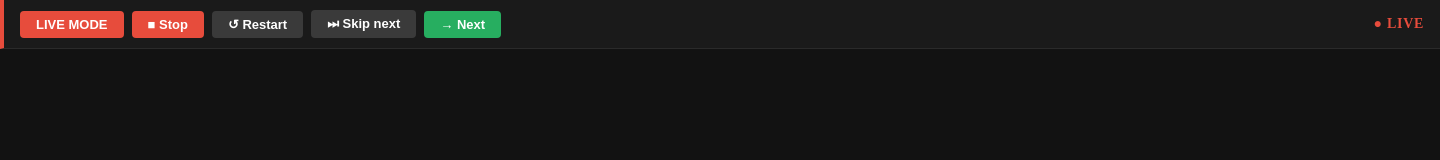
Test: the transport fault message › goes away on the next action that works
This screenshot has width=1440, height=160.
Click the button with aria-label "Next shot". click: (463, 24)
box: [424,10,501,38]
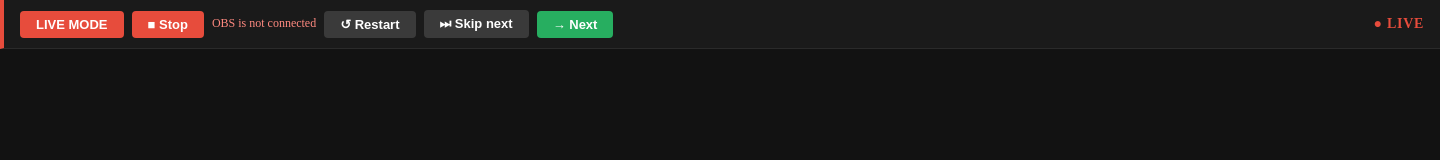
Expected: the message reads "OBS is not connected", [212,16,316,30]
Click the button with aria-label "Next shot". click: (575, 24)
box: [537,10,613,38]
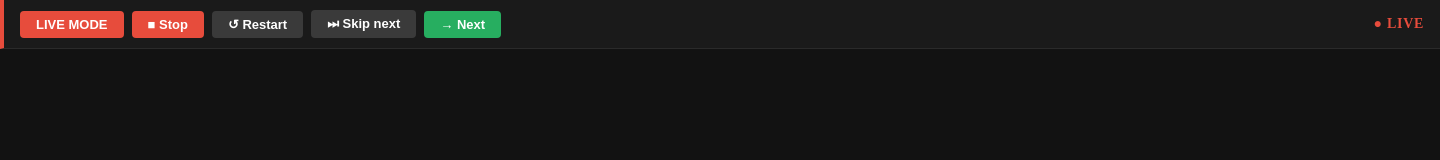
Expected: the message "OBS is not connected" is gone
